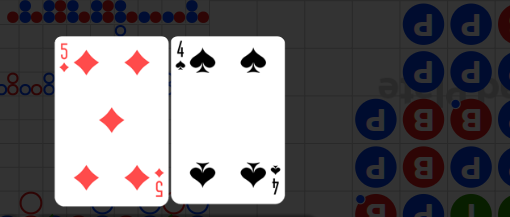4S: (269, 163, 282, 196)
5D: (58, 42, 70, 74)
